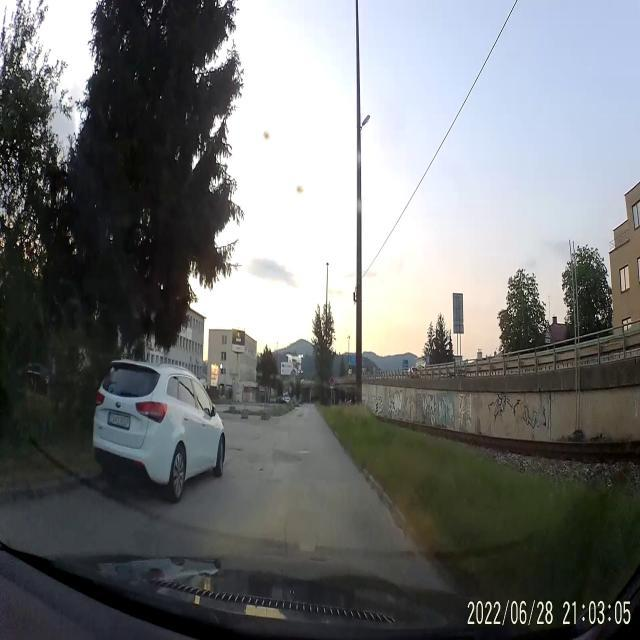Manhole: (292, 447, 312, 456), (250, 463, 264, 475)
Pothole: (270, 446, 300, 466)
